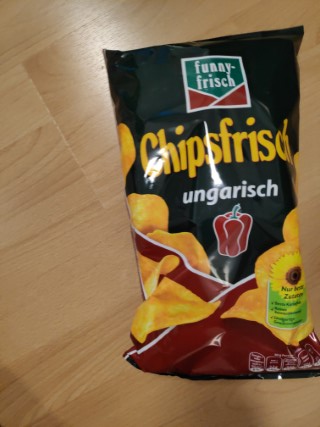chipsfrisch: (100, 24, 320, 383)
